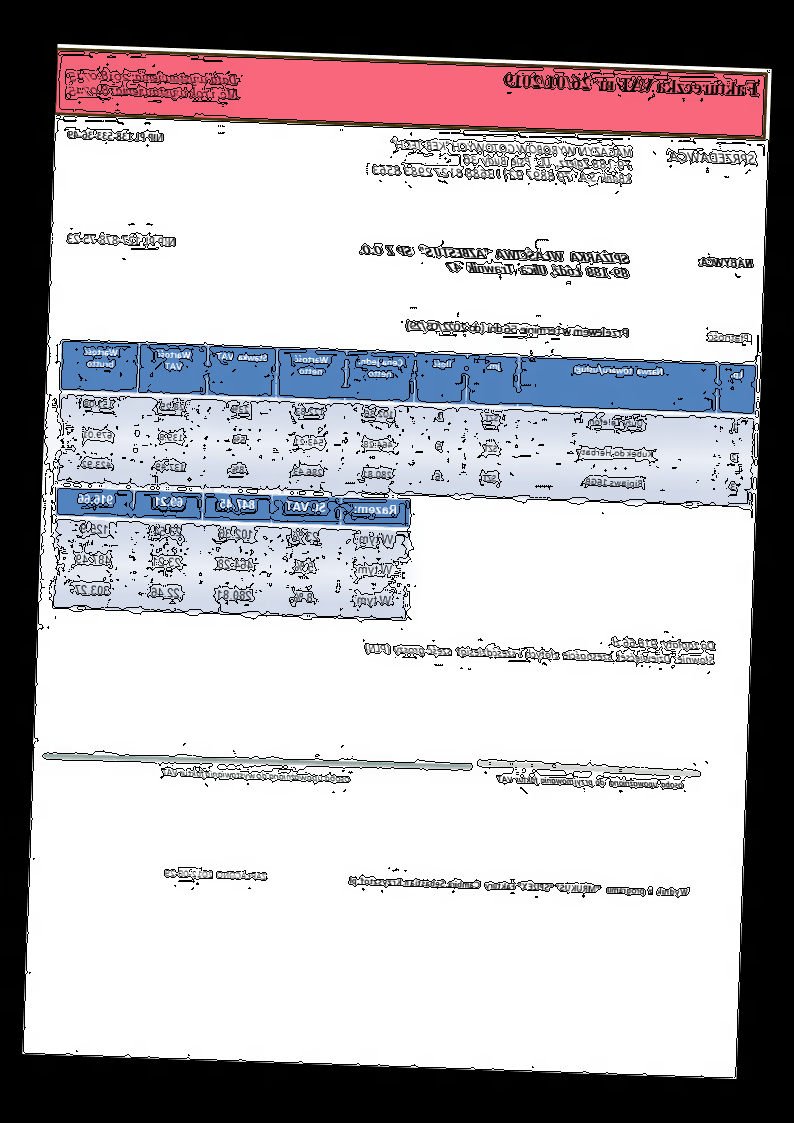Table: (55, 339, 759, 508), (51, 486, 411, 622)
TextBox: (363, 627, 718, 669), (371, 136, 636, 188), (356, 239, 632, 281), (347, 872, 691, 901), (502, 69, 761, 99), (66, 66, 241, 104), (406, 318, 631, 341), (160, 764, 355, 786), (495, 772, 686, 793), (68, 229, 181, 250), (66, 126, 167, 145), (163, 865, 269, 883), (666, 148, 759, 168), (698, 254, 756, 271), (704, 329, 752, 346)
